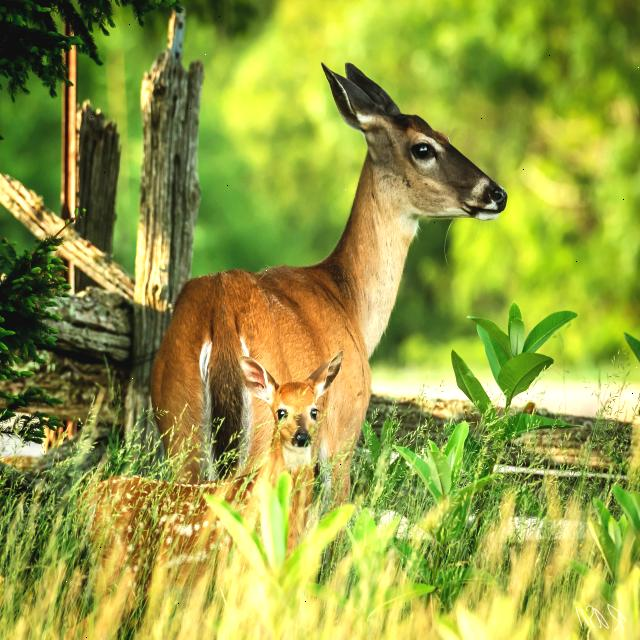deer: (274, 37, 524, 280), (128, 343, 351, 562)
